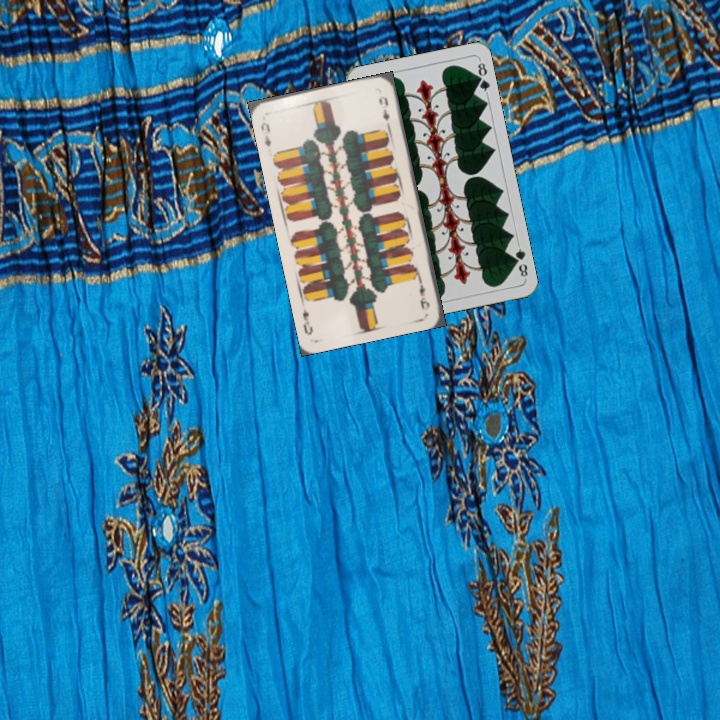E9: (414, 273, 432, 314), (257, 118, 274, 149)
G8: (508, 241, 530, 281)
